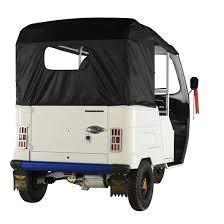keke: (13, 9, 204, 223)
